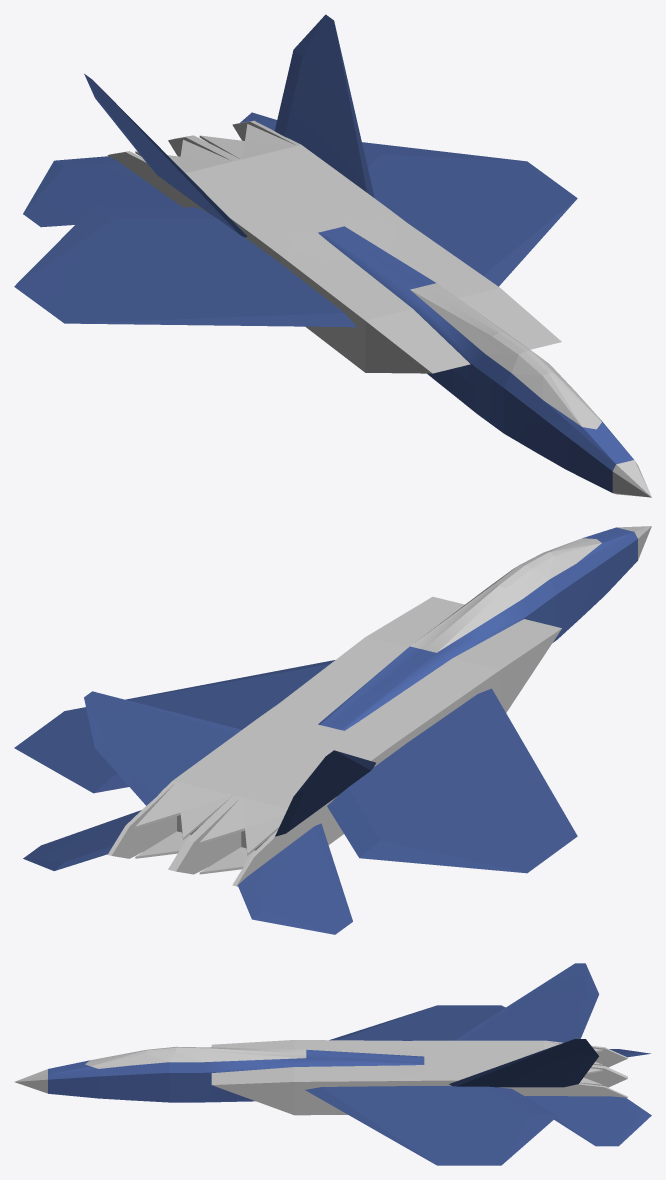
The picture shows the model from 3 angles, top to bottom: view 1: azimuth 30°, elevation 25°; view 2: azimuth 150°, elevation 25°; view 3: azimuth 270°, elevation 25°; orthographic projection. The views are drawn at different scales.
Visible parts, largest first — view 1: Cube.004, Cube, Cube.005, Cube.001, Cube.006; view 2: Cube, Cube.004, Cube.005, Cube.001, Cube.006; view 3: Cube.004, Cube, Cube.005, Cube.001, Cube.006.
Boxes of the visible parts, bbox=[...] form: Cube.004: bbox=[14, 142, 577, 327]; Cube: bbox=[107, 120, 561, 373]; Cube.005: bbox=[318, 226, 651, 497]; Cube.001: bbox=[84, 14, 374, 237]; Cube.006: bbox=[23, 112, 276, 227]; Cube: bbox=[107, 596, 561, 886]; Cube.004: bbox=[14, 660, 577, 873]; Cube.005: bbox=[318, 526, 651, 730]; Cube.001: bbox=[84, 691, 375, 836]; Cube.006: bbox=[23, 810, 352, 934]; Cube.004: bbox=[305, 1005, 557, 1165]; Cube: bbox=[211, 1040, 627, 1115]; Cube.005: bbox=[14, 1046, 424, 1102]; Cube.001: bbox=[449, 963, 599, 1087]; Cube.006: bbox=[525, 1049, 651, 1146].
Bounding box in the file's own units: 15.93 × 4.48 × 26.82.
